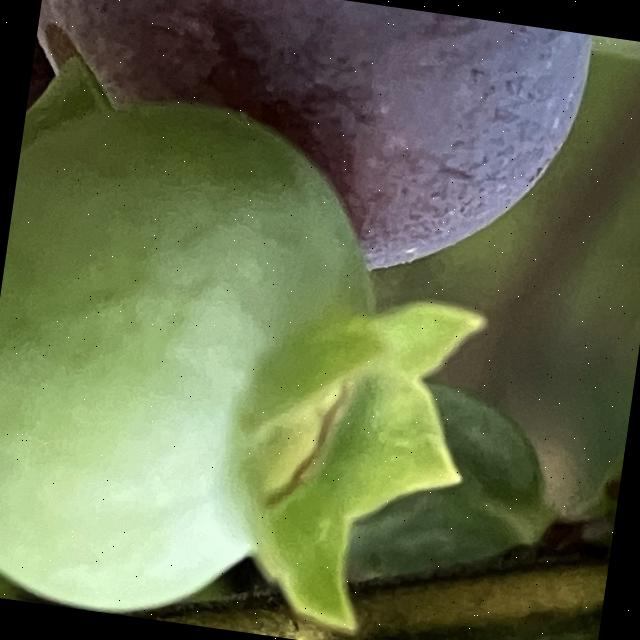Blueberries: (0, 66, 512, 640), (9, 0, 640, 321)
